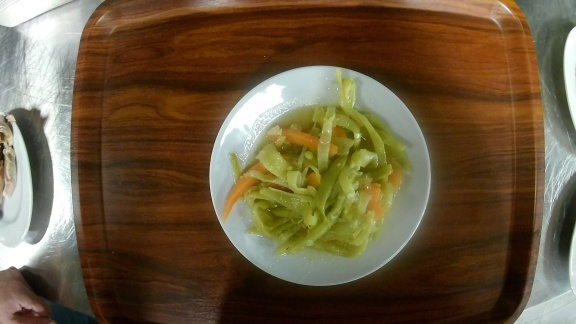tazefasulye: (207, 65, 432, 288)
